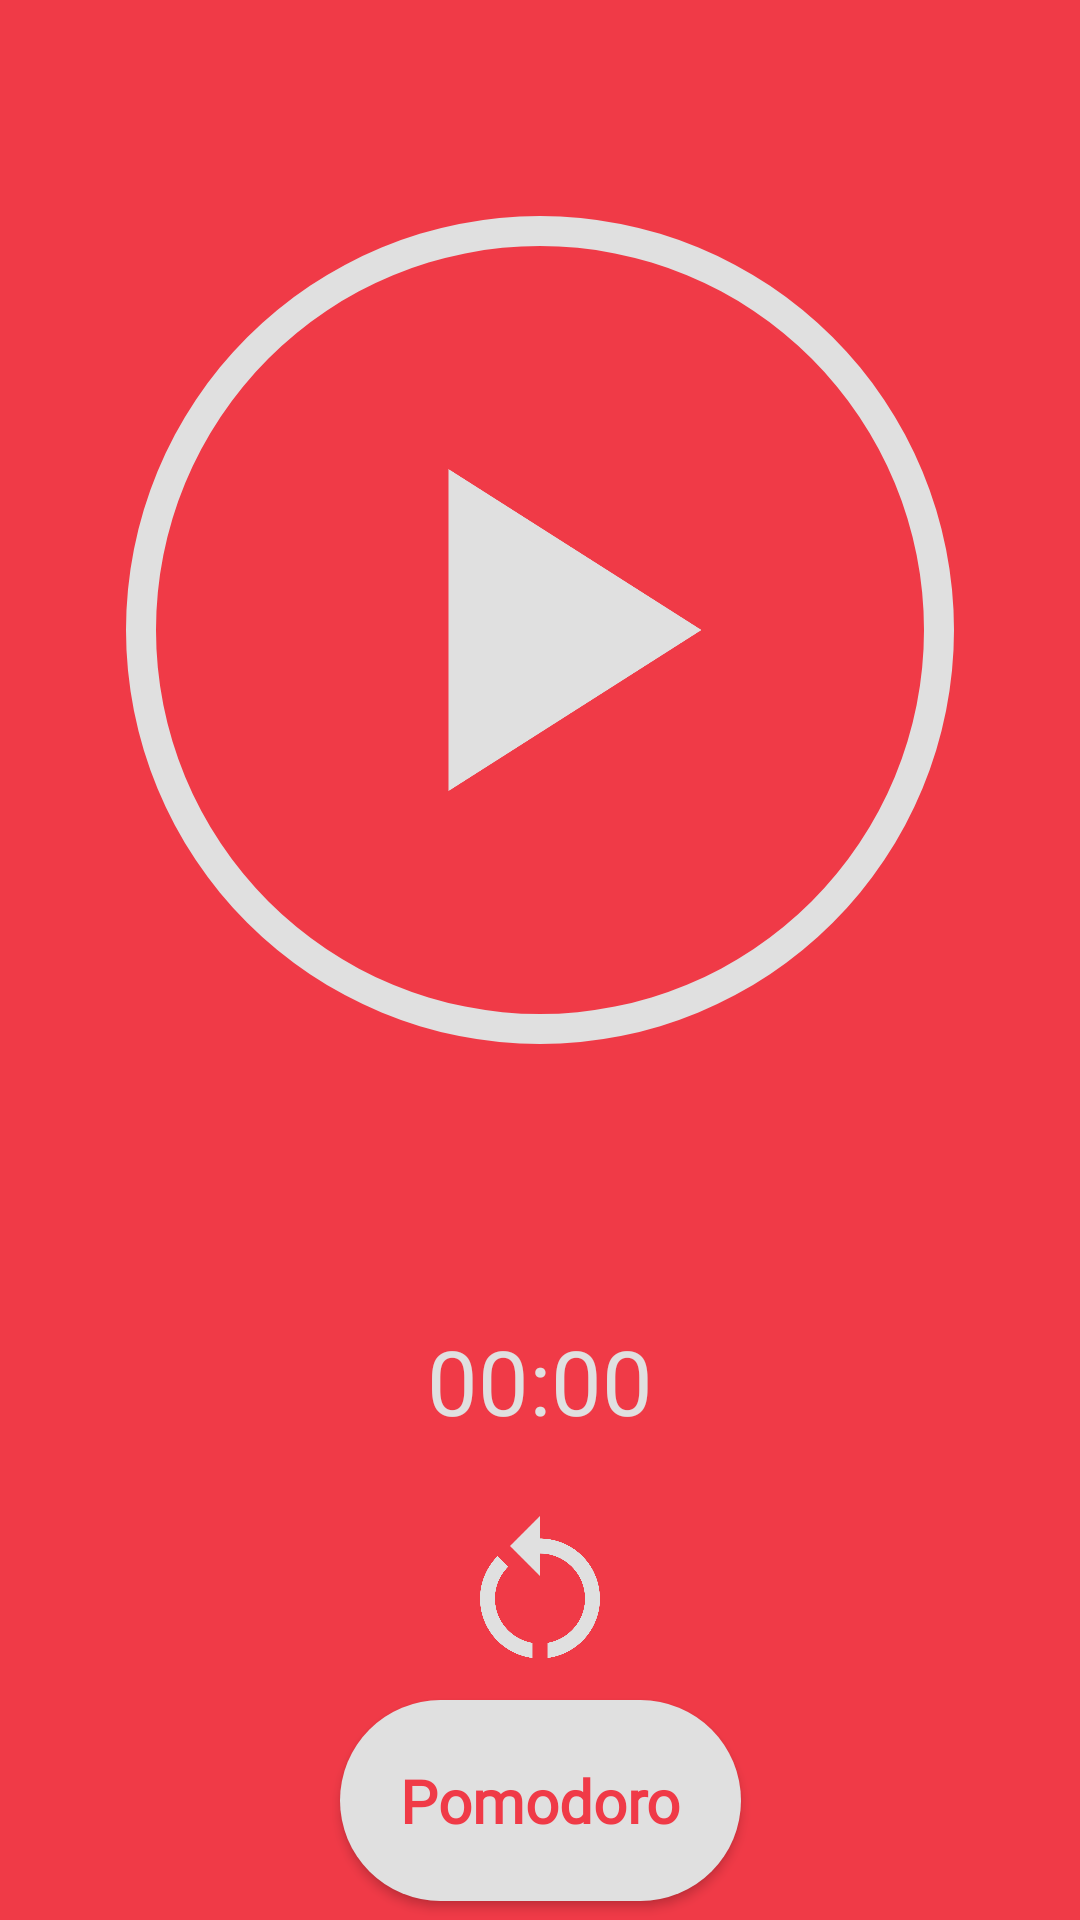

Icon click points for this 1080×1920 phone screenshot, format (x,y):
play circle: (574,630)
restart: (540,1587)
